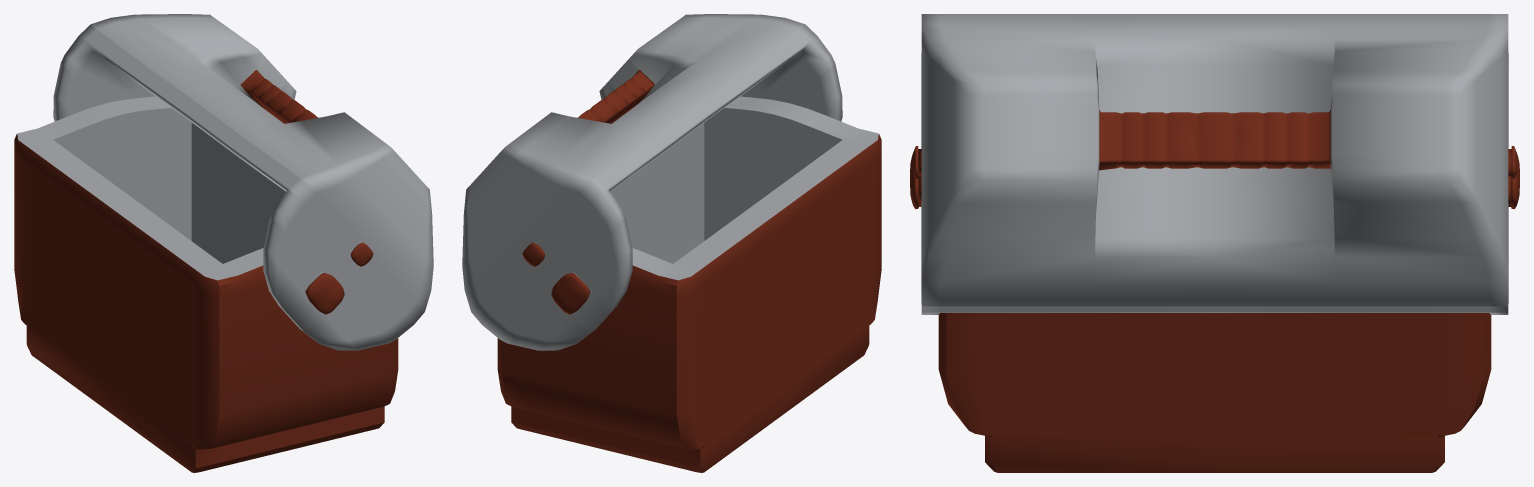
File: organ box.fbx
3 views of the same model, side by side, from view 1: azimuth 30°, elevation 25°; view 2: azimuth 150°, elevation 25°; view 3: azimuth 270°, elevation 25° (orthographic). The views are drawn at different scales.
Visible parts, largest first — view 1: organ box 01, organ box 02; view 2: organ box 01, organ box 02; view 3: organ box 02, organ box 01.
Part boxes in pixels (box(x1,y1,x2,y2)): organ box 01: box(14, 96, 398, 472); organ box 02: box(53, 14, 433, 350); organ box 01: box(497, 96, 881, 472); organ box 02: box(462, 14, 842, 350); organ box 02: box(910, 14, 1519, 314); organ box 01: box(938, 313, 1491, 472).
Size of the model in its own units: 0.2911 by 0.3523 by 0.4929.
2 materials, 2 textured.
